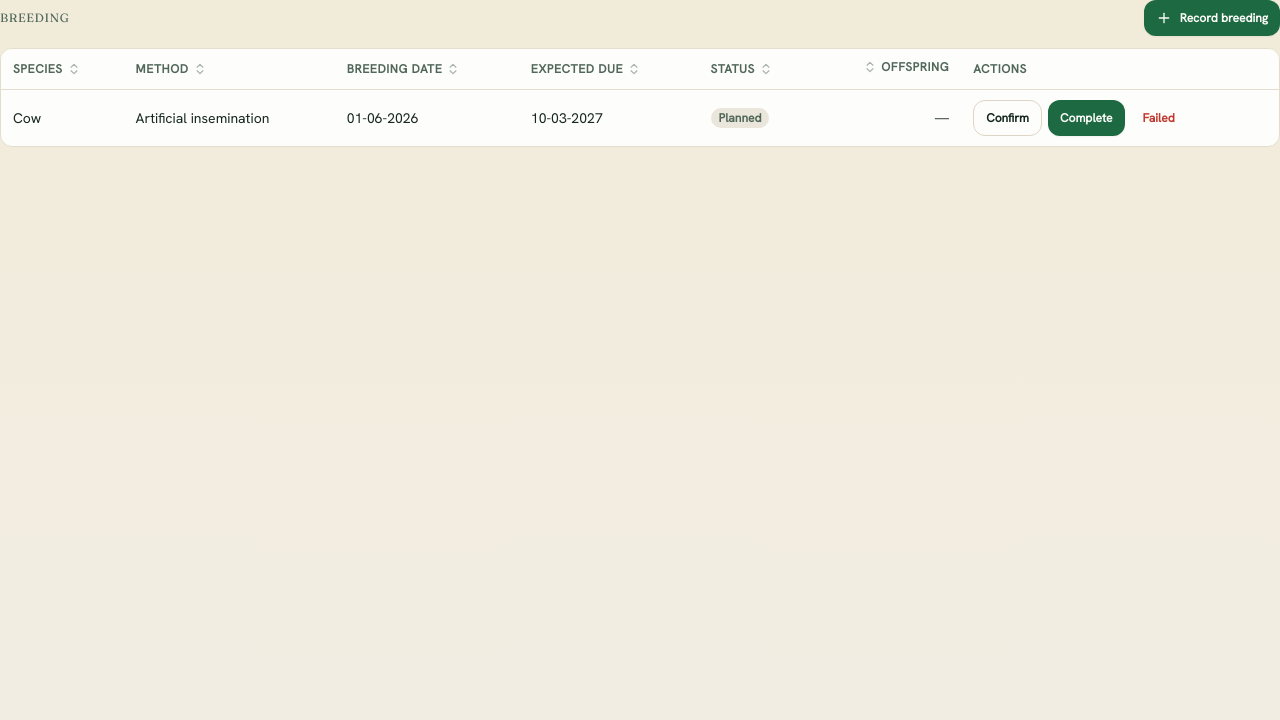
Scenario: BreedingPanel (records table + status flow) › creates a record via the dialog with method + species
Expected: the text "Cow" is shown, [1,89,124,146]
Click the button "Record breeding": [1212, 18] box [1144,0,1279,36]
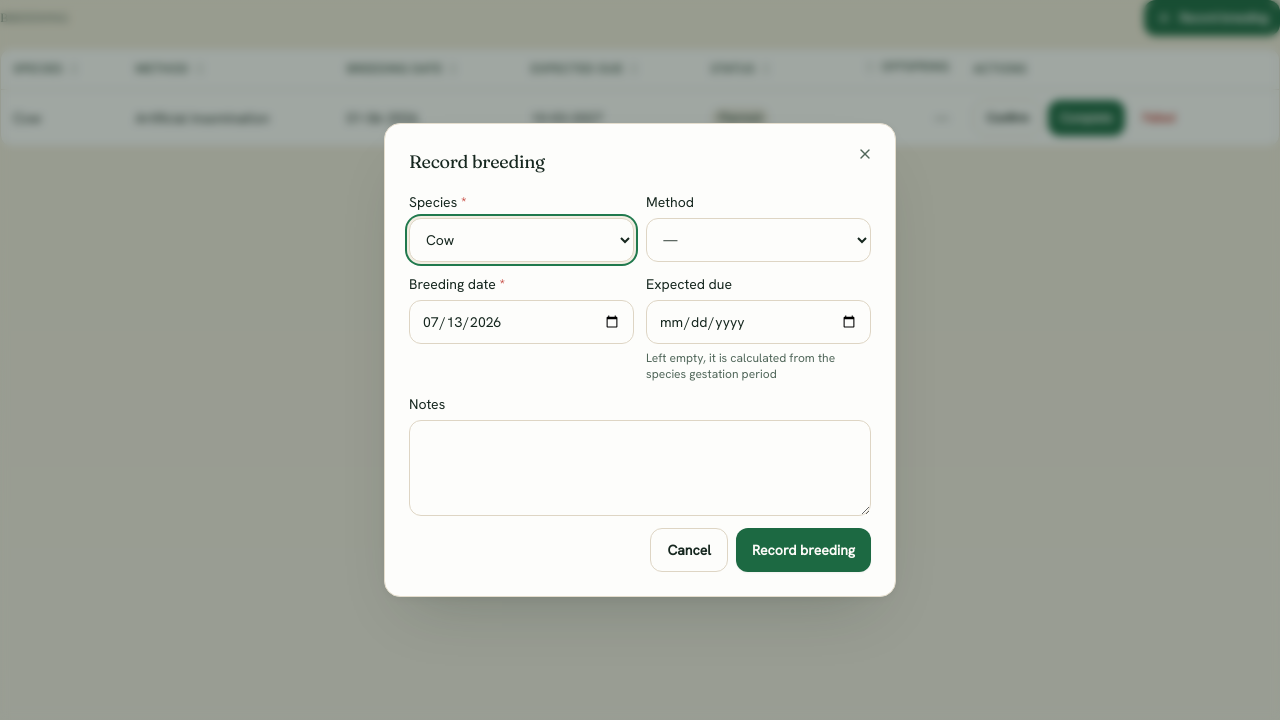
Select "Artificial insemination" in the dropdown labelled "Method": [758, 240] box [646,218,871,262]
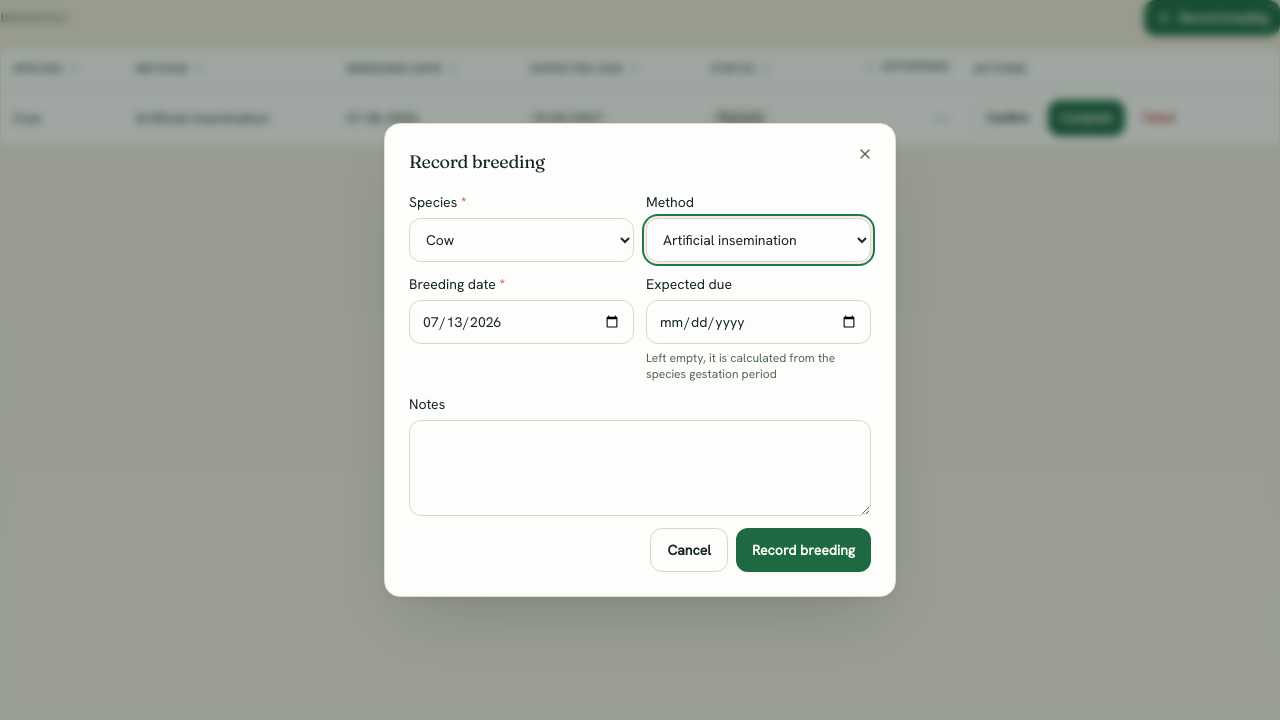
Click the button "Record breeding": [804, 550] box [736,528,871,572]
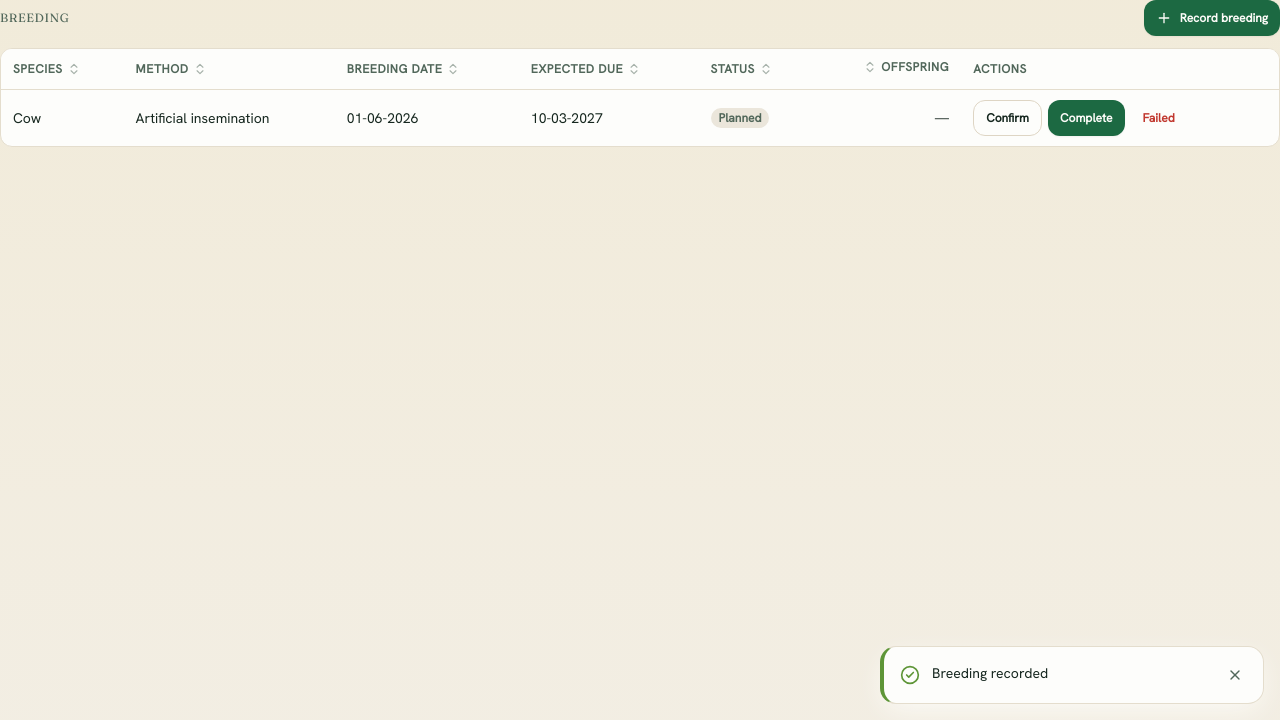
Expected: the text "Breeding recorded" is shown, [932,664,1048,682]
